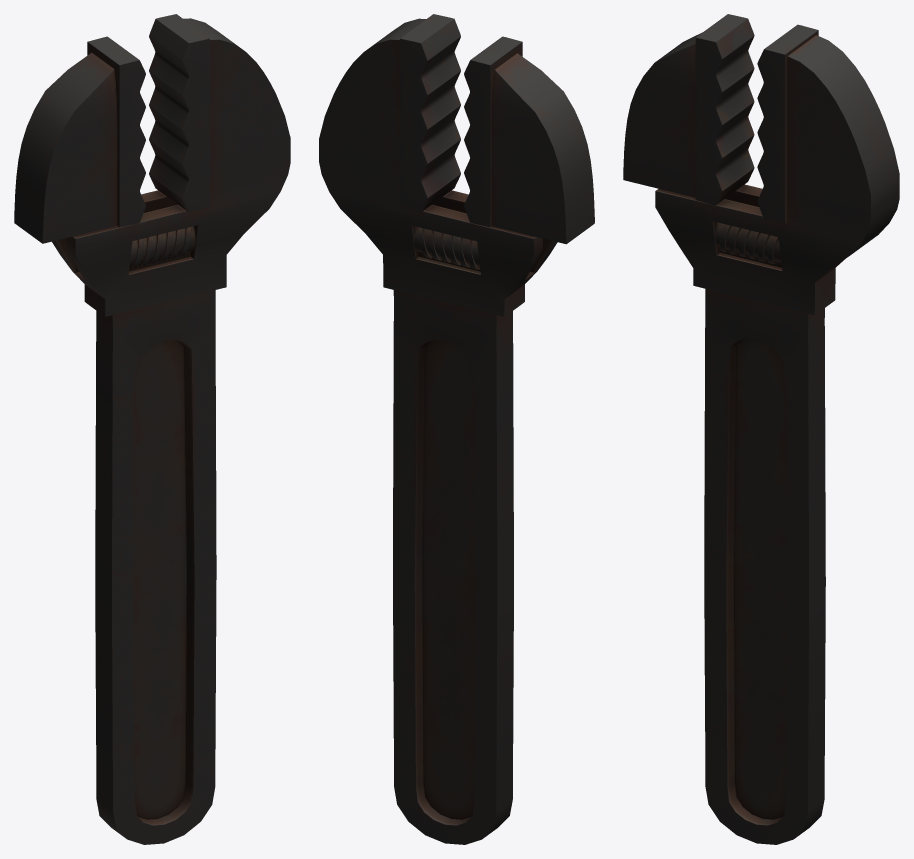
File: Wrench.fbx
The picture shows the model from 3 angles, left to right: view 1: azimuth 30°, elevation 25°; view 2: azimuth 150°, elevation 25°; view 3: azimuth 330°, elevation 25°; orthographic projection.
Parts seen in each view (by area): view 1: Wrench_low; view 2: Wrench_low; view 3: Wrench_low.
Boxes of the visible parts, x1=… form: Wrench_low: x1=14, y1=14, x2=290, y2=844; Wrench_low: x1=319, y1=14, x2=594, y2=844; Wrench_low: x1=623, y1=14, x2=899, y2=844.
Size of the model in its own units: 47.11 by 146 by 11.21.
Materials: 1 (1 with a texture image).
